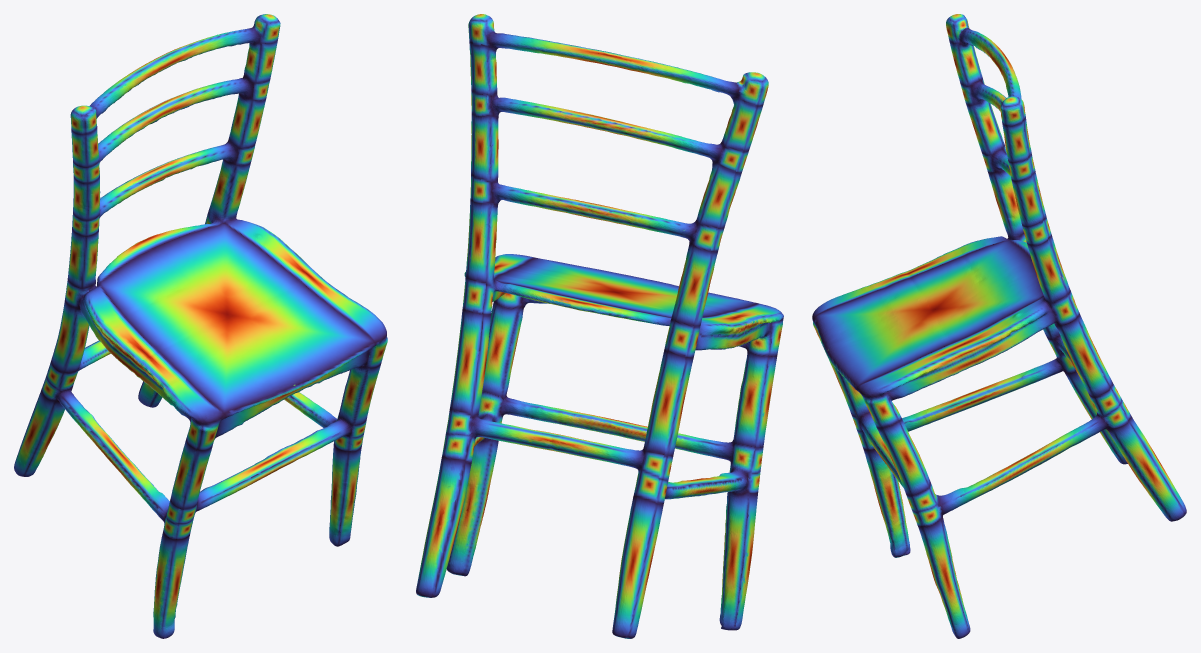
File: gen0.glb
3 views of the same model, side by side, from view 1: azimuth 30°, elevation 25°; view 2: azimuth 150°, elevation 25°; view 3: azimuth 270°, elevation 25° (orthographic). The views are drawn at different scales.
Visible parts, largest first — view 1: Node; view 2: Node; view 3: Node.
Part boxes in pixels (left/top/right/bottom): Node: left=14, top=14, right=387, bottom=638; Node: left=416, top=14, right=783, bottom=638; Node: left=812, top=14, right=1186, bottom=638.
Size of the model in its own units: 311 by 576 by 365.
1 material, 1 textured.
